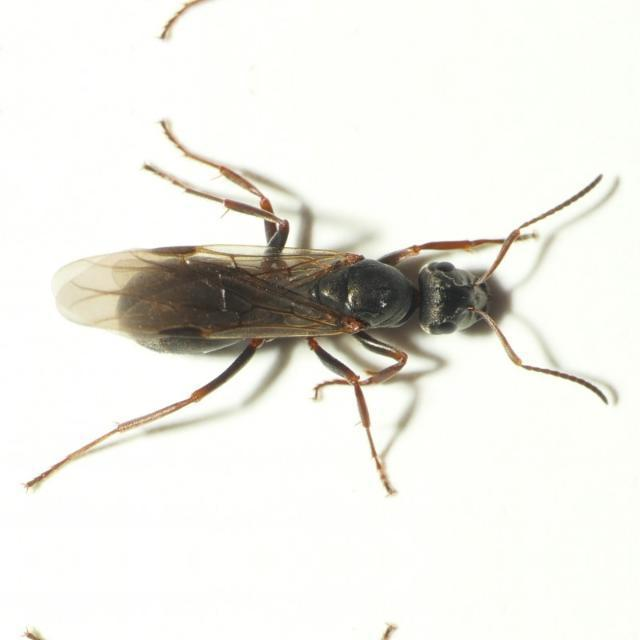Formica: (33, 116, 617, 460)
